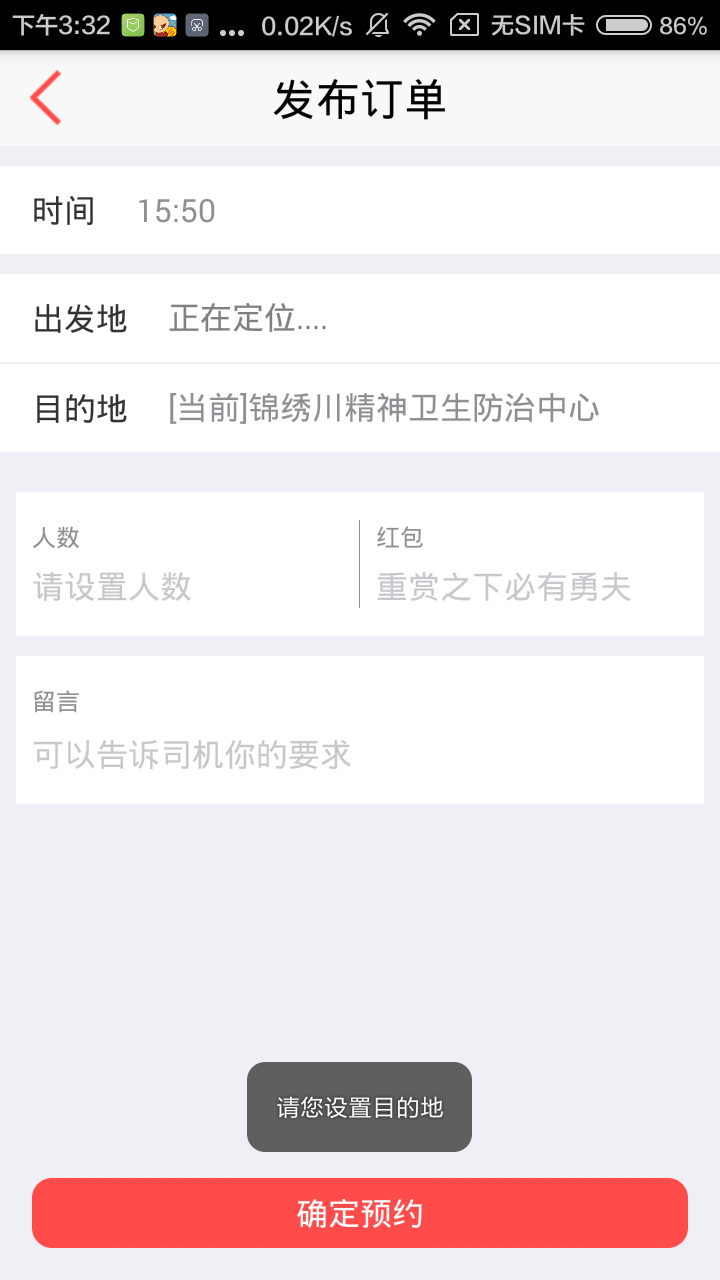alert: (240, 1053, 483, 1160)
button: (28, 1171, 700, 1254)
textview: (1, 265, 720, 465), (8, 481, 720, 648), (8, 642, 708, 811), (2, 153, 720, 265)
